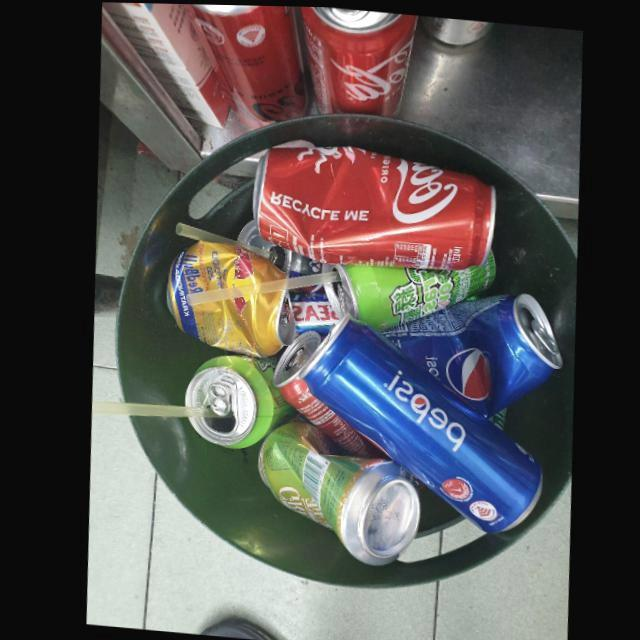aluminum: (294, 314, 537, 532), (250, 144, 493, 270), (253, 416, 416, 565), (376, 291, 559, 417), (181, 3, 306, 128), (268, 329, 387, 458), (162, 240, 292, 357), (318, 247, 493, 329), (300, 5, 418, 117), (181, 345, 294, 448), (234, 219, 319, 276), (287, 283, 322, 292)
